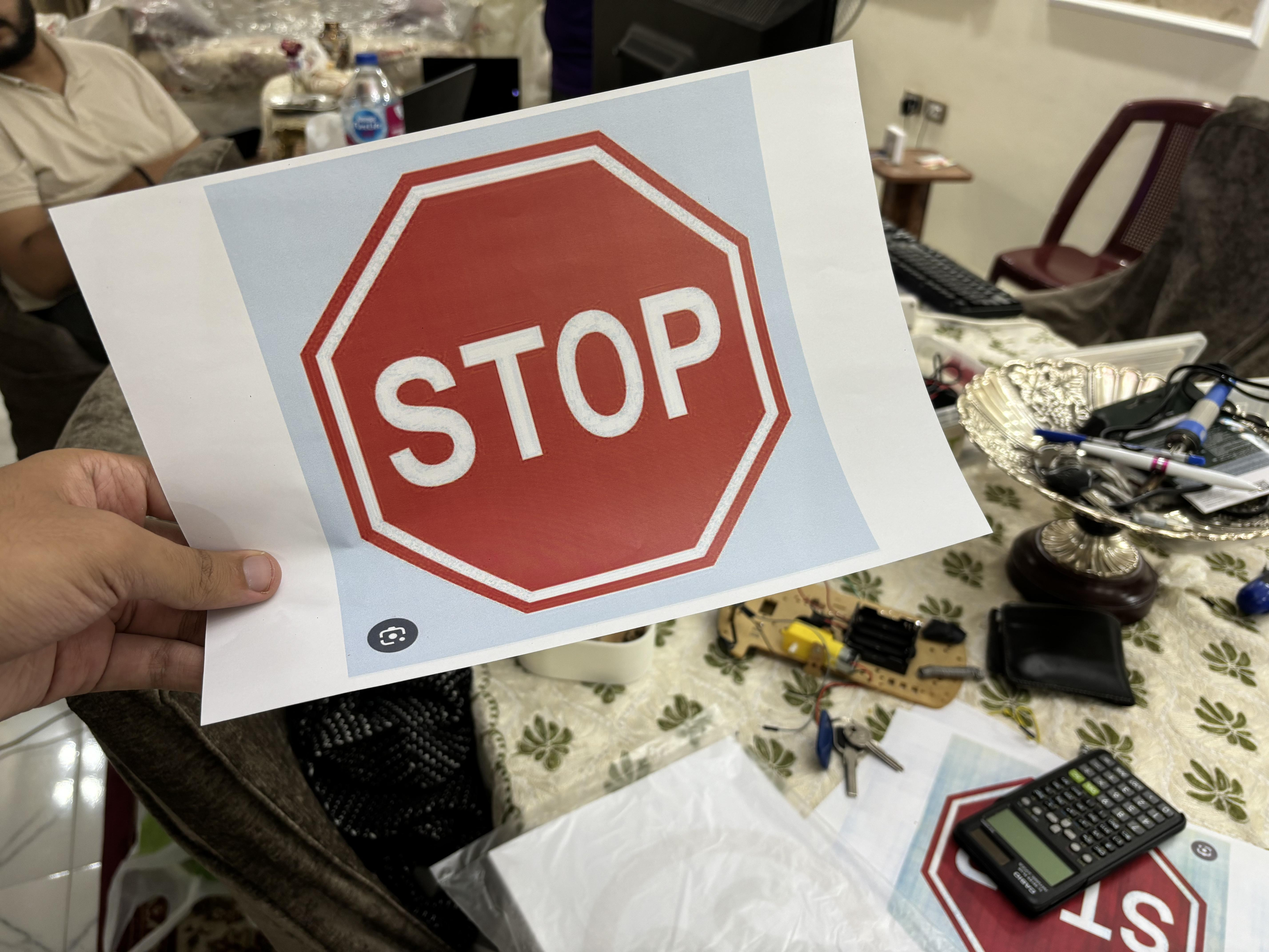Stop: (297, 123, 798, 617)
